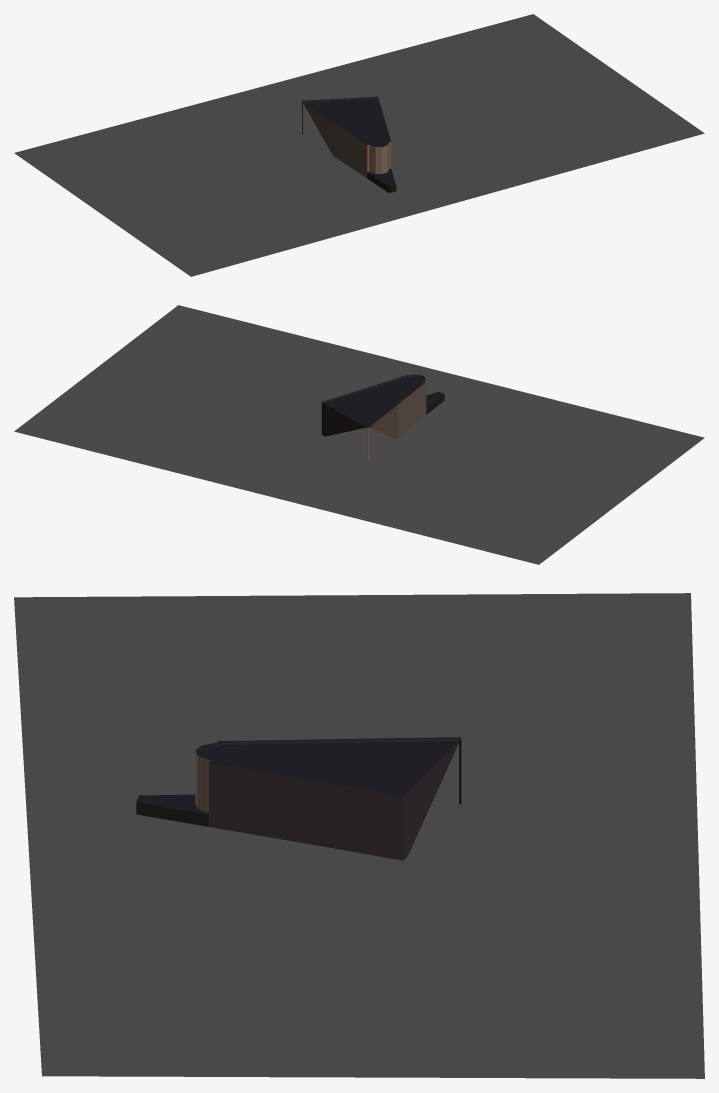
File: 1012-market-street.glb
3 views of the same model, one above another, from view 1: azimuth 30°, elevation 25°; view 2: azimuth 150°, elevation 25°; view 3: azimuth 270°, elevation 25° (orthographic). The views are drawn at different scales.
Visible parts, largest first — view 1: LOD0; view 2: LOD0; view 3: LOD0.
Part boxes in pixels (x1,y1,x2,y2): LOD0: [14, 14, 704, 276]; LOD0: [14, 305, 704, 564]; LOD0: [14, 593, 704, 1078].
Size of what is drawn, in the model's own units: 237 by 16.66 by 137.
Materials: 2 (2 with a texture image).
